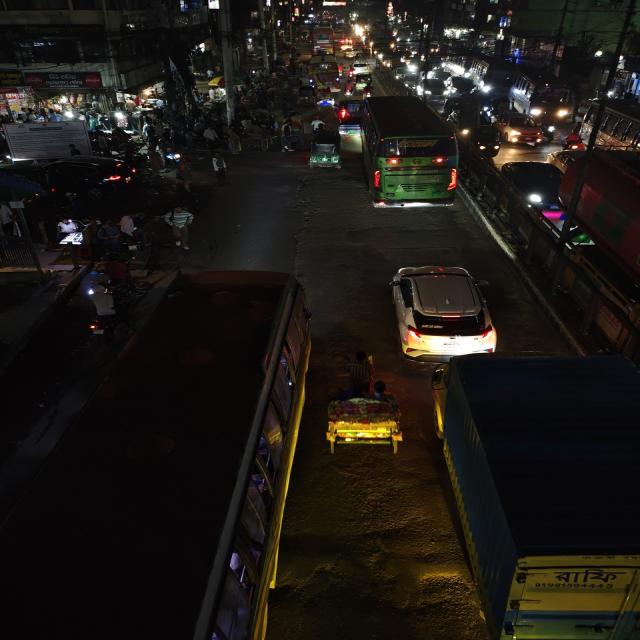bus: (13, 263, 311, 638), (558, 149, 640, 312), (360, 95, 460, 213), (574, 98, 639, 152), (510, 68, 572, 120)
car: (384, 262, 499, 362), (2, 155, 147, 195), (498, 158, 563, 212), (492, 111, 547, 147)
cng: (306, 130, 344, 172), (471, 124, 502, 156), (335, 98, 362, 120), (296, 86, 316, 106), (315, 93, 336, 109), (352, 73, 373, 88)
motorcycle: (81, 292, 123, 341), (564, 126, 588, 150)
pedestrian: (164, 204, 197, 250), (96, 253, 134, 290), (204, 150, 230, 186), (225, 122, 245, 154), (201, 124, 221, 150), (279, 122, 295, 152), (255, 124, 270, 151), (280, 98, 292, 118)
rickshaw: (322, 380, 410, 456)
truck: (433, 354, 640, 640)
